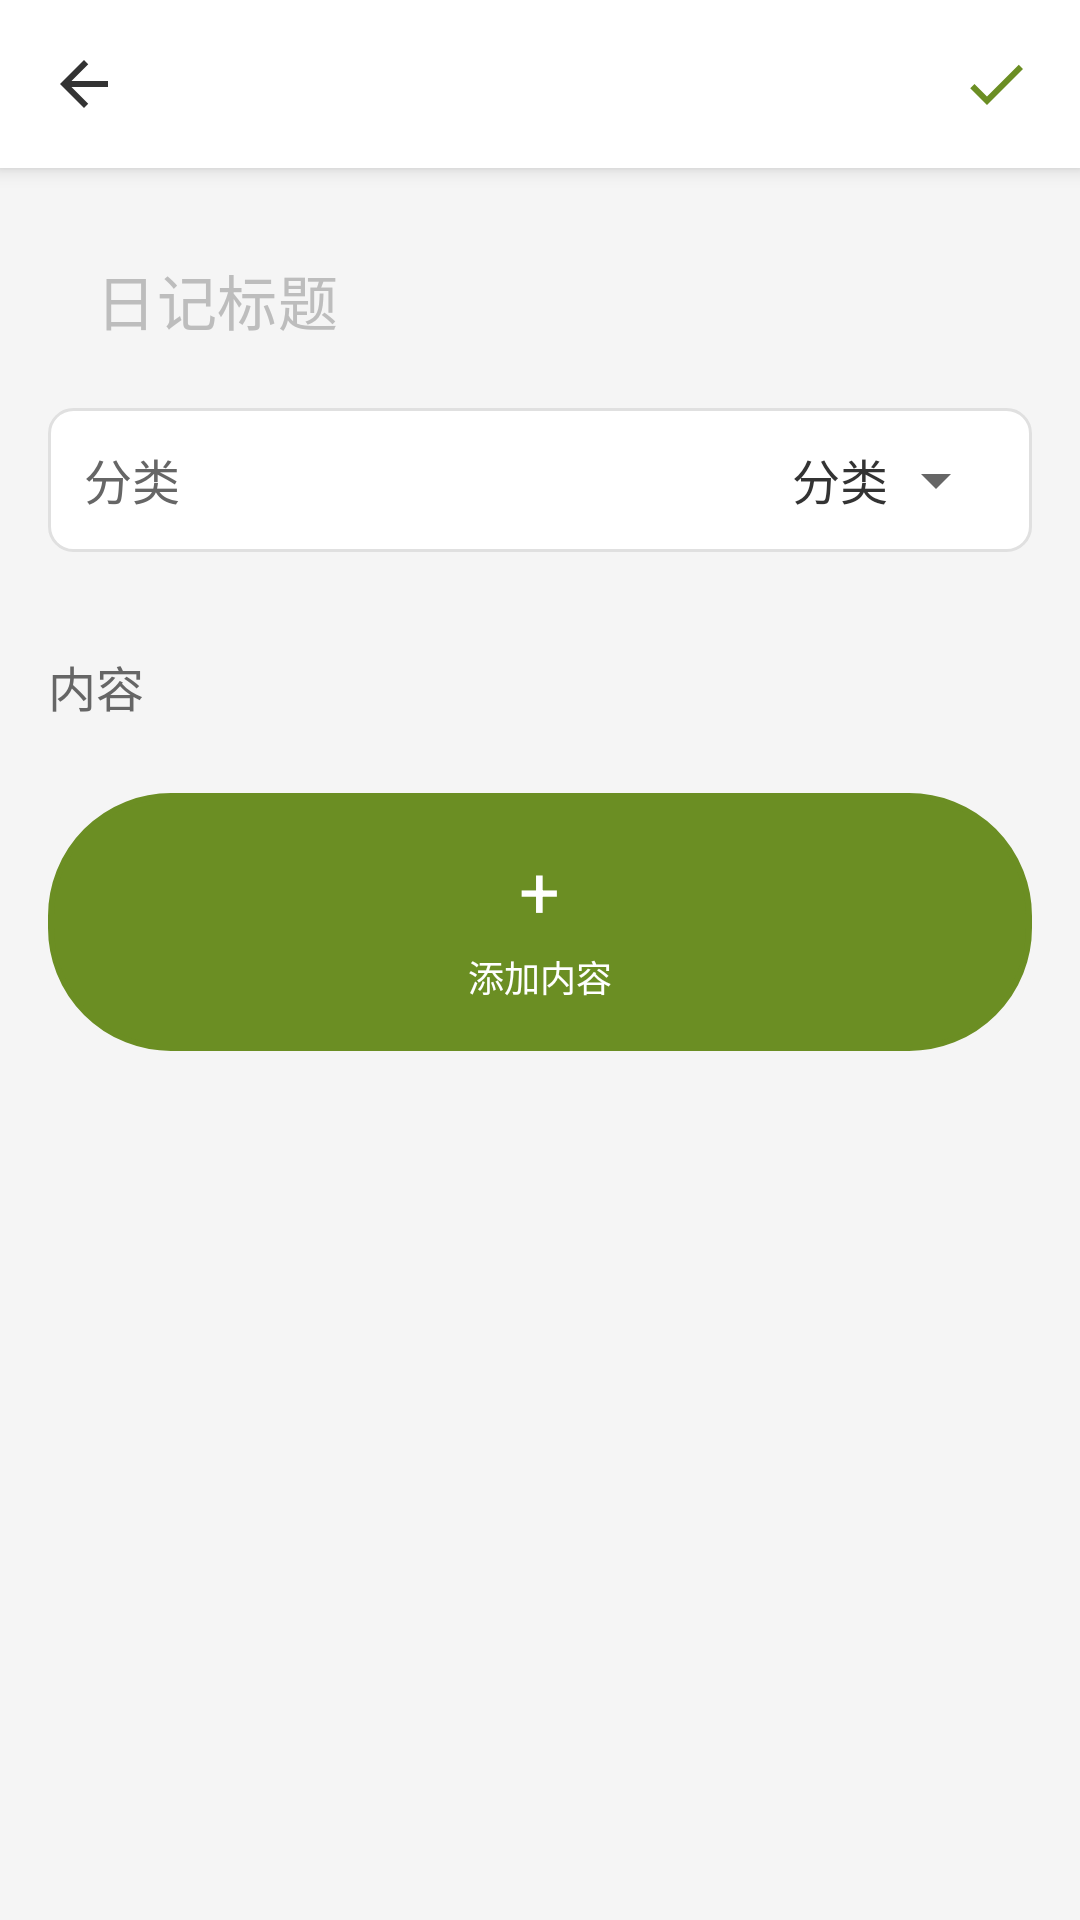

Screen size 1080px×1920px. Icon name, then its center in pixels as [x,y]:
back arrow: [84,84]
save: [996,85]
